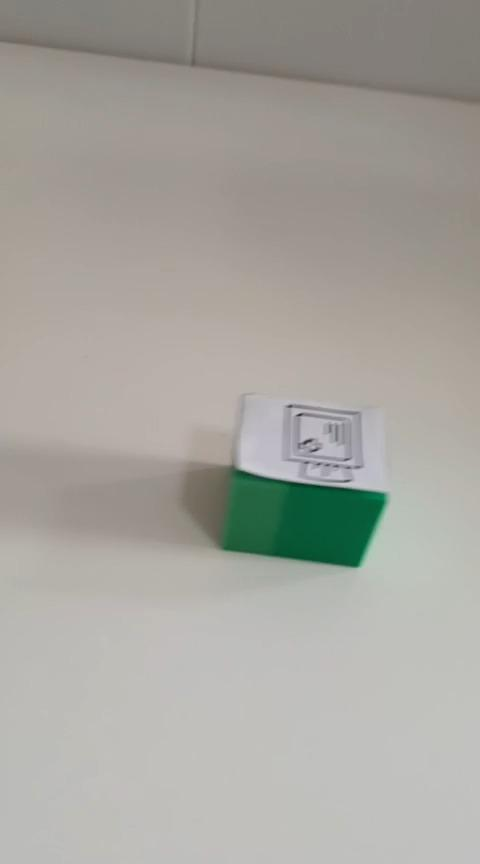Gauze: (219, 390, 391, 568)
